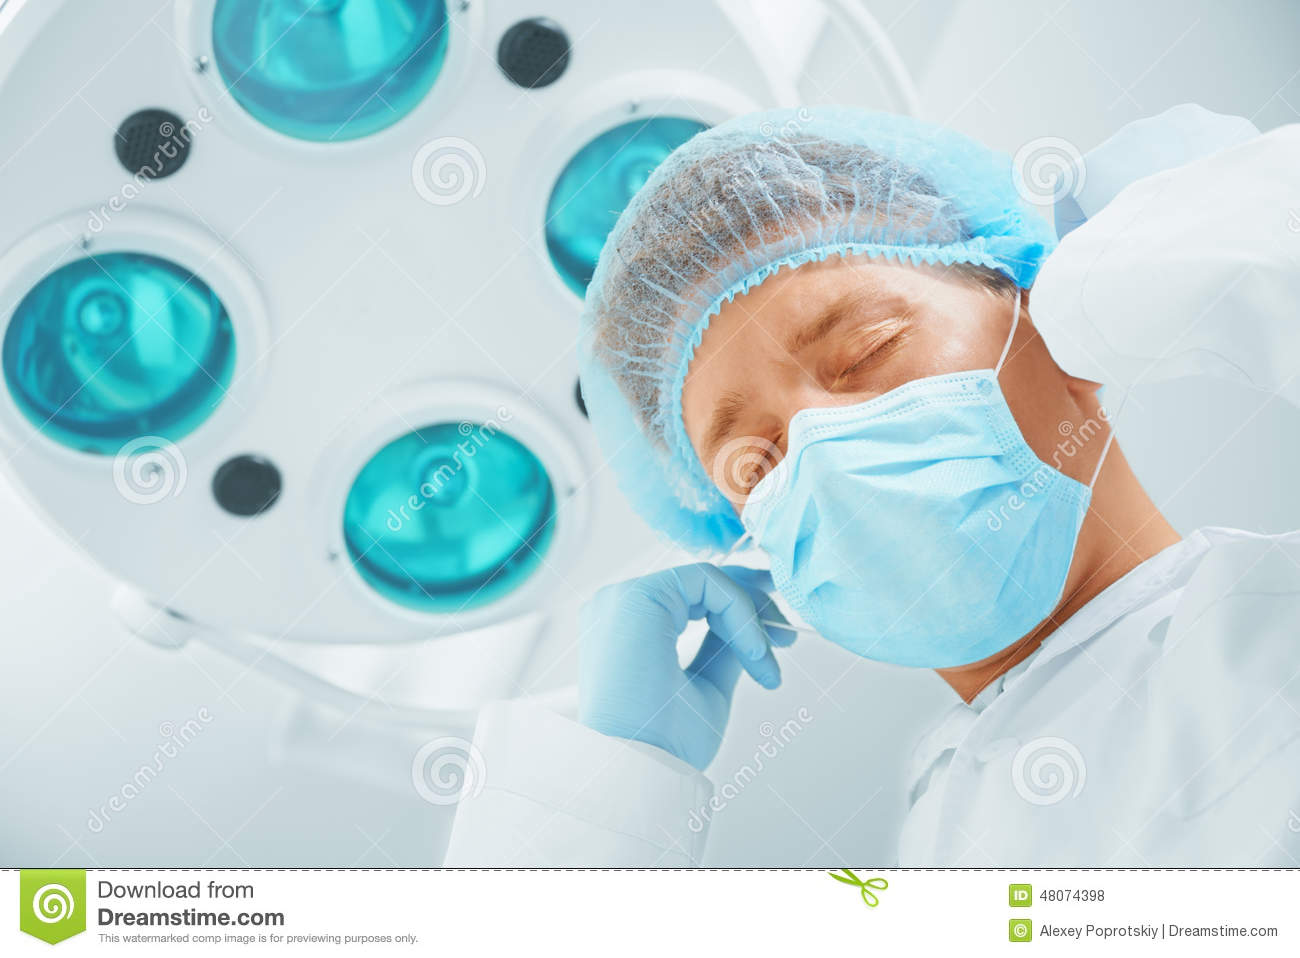mask: (728, 419, 1078, 655)
